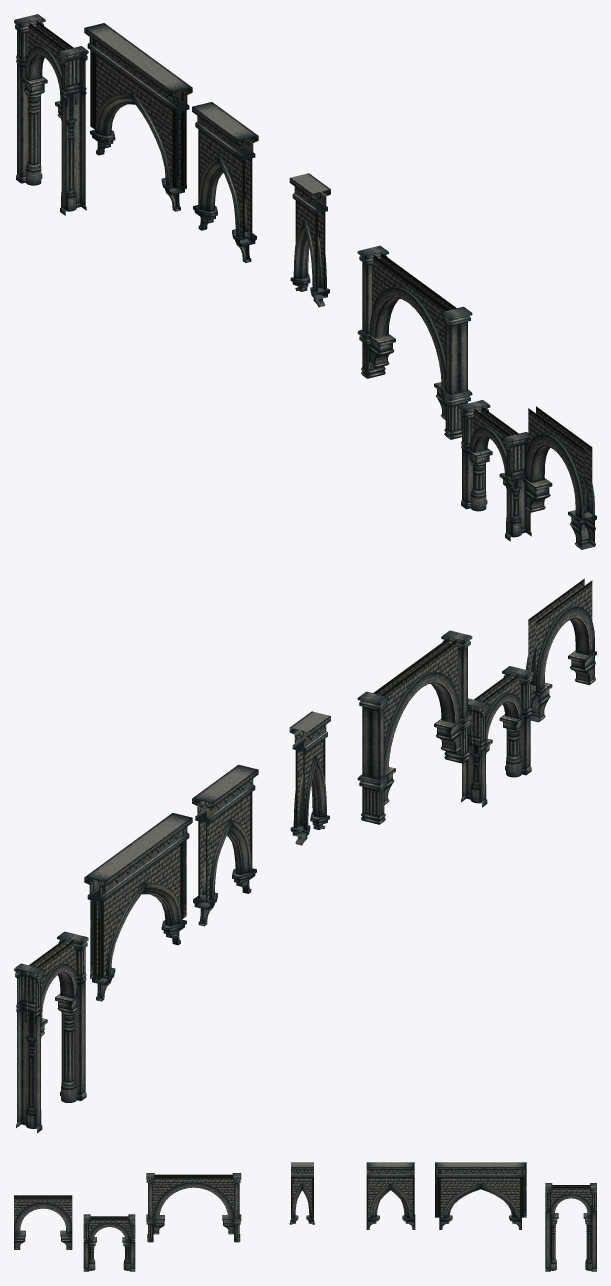
Rendered from EnvMdrMD_Daiseidou_B_Arch_A_2W.FBX.
3 renders of one model, top to bottom at view 1: azimuth 30°, elevation 25°; view 2: azimuth 150°, elevation 25°; view 3: azimuth 270°, elevation 25°, orthographic. The views are drawn at different scales.
Parts seen in each view (by area): view 1: EnvMdrMD_Daiseidou_B_Arch_A_8W, EnvMdrMD_Daiseidou_B_Arch_E_800W, EnvMdrMD_Daiseidou_B_Arch_D_400W800H, EnvMdrMD_Daiseidou_B_Arch_A_4W, EnvMdrMD_Daiseidou_B_Arch_E_4W4H, EnvMdrMD_Daiseidou_B_Arch_C_6W, EnvMdrMD_Daiseidou_B_Arch_A_2W; view 2: EnvMdrMD_Daiseidou_B_Arch_A_8W, EnvMdrMD_Daiseidou_B_Arch_E_800W, EnvMdrMD_Daiseidou_B_Arch_D_400W800H, EnvMdrMD_Daiseidou_B_Arch_A_4W, EnvMdrMD_Daiseidou_B_Arch_E_4W4H, EnvMdrMD_Daiseidou_B_Arch_C_6W, EnvMdrMD_Daiseidou_B_Arch_A_2W; view 3: EnvMdrMD_Daiseidou_B_Arch_A_8W, EnvMdrMD_Daiseidou_B_Arch_E_800W, EnvMdrMD_Daiseidou_B_Arch_D_400W800H, EnvMdrMD_Daiseidou_B_Arch_A_4W, EnvMdrMD_Daiseidou_B_Arch_E_4W4H, EnvMdrMD_Daiseidou_B_Arch_C_6W, EnvMdrMD_Daiseidou_B_Arch_A_2W.
Boxes of the visible parts, box(x1,y1,x2,y2) form: EnvMdrMD_Daiseidou_B_Arch_A_8W: box(84, 23, 192, 211); EnvMdrMD_Daiseidou_B_Arch_E_800W: box(357, 245, 472, 439); EnvMdrMD_Daiseidou_B_Arch_D_400W800H: box(14, 14, 88, 215); EnvMdrMD_Daiseidou_B_Arch_A_4W: box(192, 102, 258, 262); EnvMdrMD_Daiseidou_B_Arch_E_4W4H: box(459, 400, 531, 541); EnvMdrMD_Daiseidou_B_Arch_C_6W: box(523, 406, 596, 549); EnvMdrMD_Daiseidou_B_Arch_A_2W: box(289, 173, 330, 307); EnvMdrMD_Daiseidou_B_Arch_A_8W: box(84, 813, 192, 1001); EnvMdrMD_Daiseidou_B_Arch_E_800W: box(357, 630, 472, 824); EnvMdrMD_Daiseidou_B_Arch_D_400W800H: box(14, 931, 88, 1132); EnvMdrMD_Daiseidou_B_Arch_A_4W: box(192, 764, 258, 926); EnvMdrMD_Daiseidou_B_Arch_E_4W4H: box(461, 666, 533, 807); EnvMdrMD_Daiseidou_B_Arch_C_6W: box(526, 578, 596, 722); EnvMdrMD_Daiseidou_B_Arch_A_2W: box(289, 711, 330, 845); EnvMdrMD_Daiseidou_B_Arch_A_8W: box(435, 1162, 526, 1229); EnvMdrMD_Daiseidou_B_Arch_E_800W: box(146, 1173, 241, 1242); EnvMdrMD_Daiseidou_B_Arch_D_400W800H: box(545, 1183, 596, 1271); EnvMdrMD_Daiseidou_B_Arch_A_4W: box(366, 1162, 415, 1229); EnvMdrMD_Daiseidou_B_Arch_E_4W4H: box(83, 1214, 135, 1271); EnvMdrMD_Daiseidou_B_Arch_C_6W: box(14, 1195, 72, 1249); EnvMdrMD_Daiseidou_B_Arch_A_2W: box(289, 1162, 314, 1224).
Bounding box in the file's own units: 130 × 1005 × 5084.
1 material, 1 textured.
